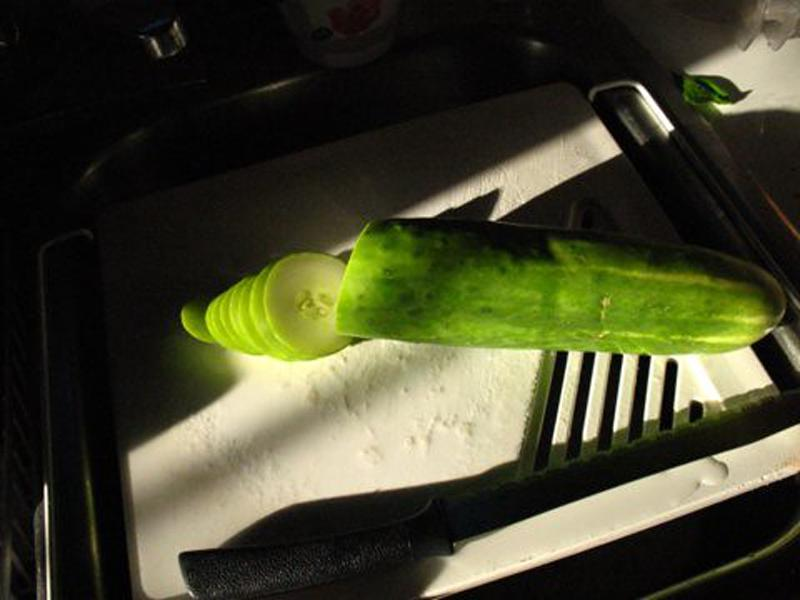Cucumber: (332, 218, 786, 355)
